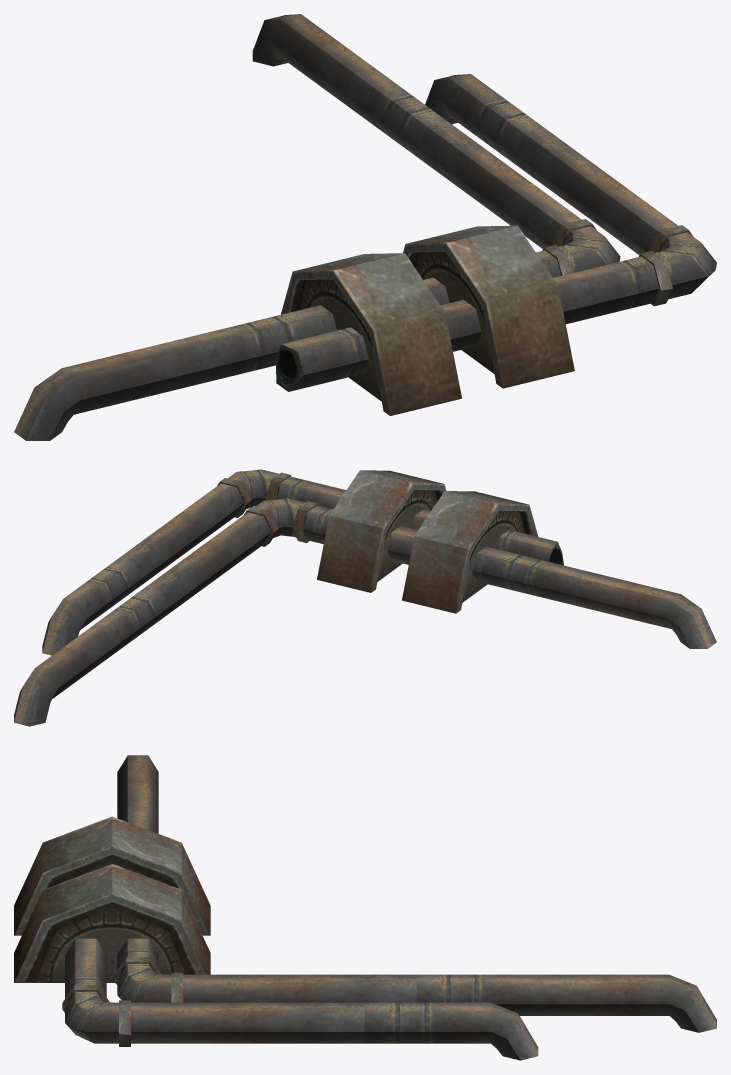
File: leinabaobianyuan_tieguan02.FBX
The picture shows the model from 3 angles, top to bottom: view 1: azimuth 30°, elevation 25°; view 2: azimuth 150°, elevation 25°; view 3: azimuth 270°, elevation 25°; orthographic projection. The views are drawn at different scales.
Visible parts, largest first — view 1: leinabaobianyuan_tieguan02; view 2: leinabaobianyuan_tieguan02; view 3: leinabaobianyuan_tieguan02.
Part boxes in pixels (x1=…): leinabaobianyuan_tieguan02: x1=14, y1=14, x2=716, y2=440; leinabaobianyuan_tieguan02: x1=14, y1=469, x2=716, y2=726; leinabaobianyuan_tieguan02: x1=14, y1=755, x2=716, y2=1060.
Size of the model in its own units: 674 by 99.99 by 712.
